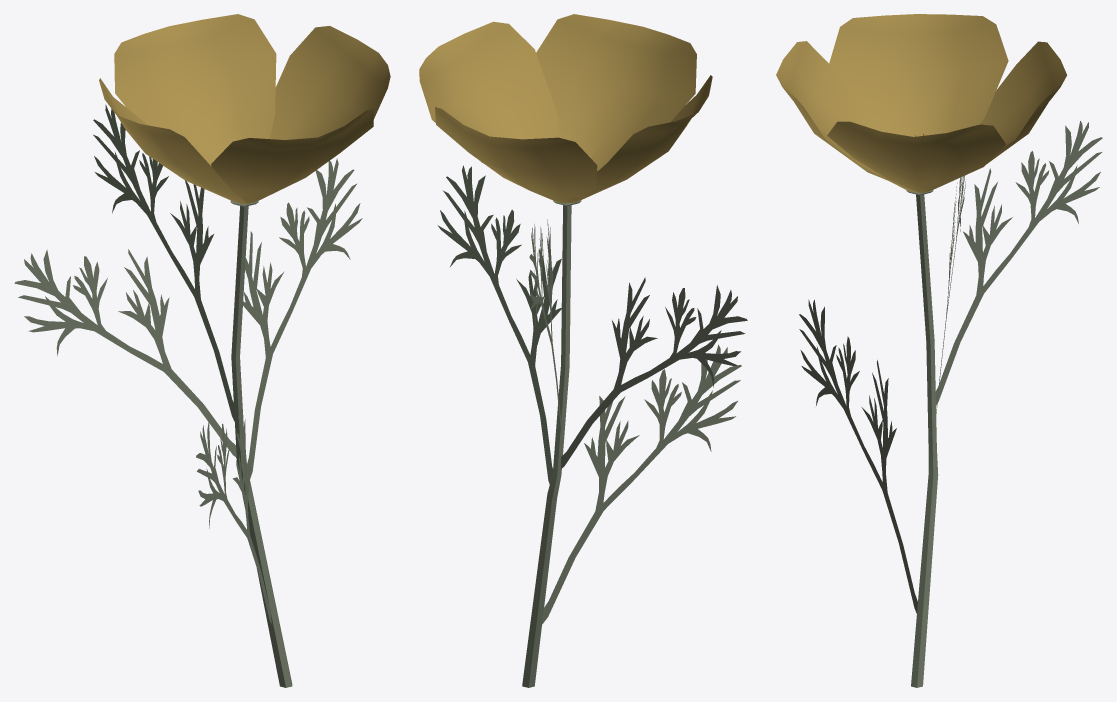
The model's file is pavot_de_californie.fbx.
3 renders of one model, left to right at view 1: azimuth 30°, elevation 25°; view 2: azimuth 150°, elevation 25°; view 3: azimuth 270°, elevation 25°, orthographic. The views are drawn at different scales.
Parts seen in each view (by area): view 1: pavot_de_californie1_fauille; view 2: pavot_de_californie1_fauille; view 3: pavot_de_californie1_fauille.
Boxes of the visible parts, box(x1,y1,x2,y2) form: pavot_de_californie1_fauille: box(14, 14, 390, 687); pavot_de_californie1_fauille: box(419, 14, 747, 687); pavot_de_californie1_fauille: box(776, 14, 1102, 687).
Size of the model in its own units: 3.38 by 5.93 by 2.95.
